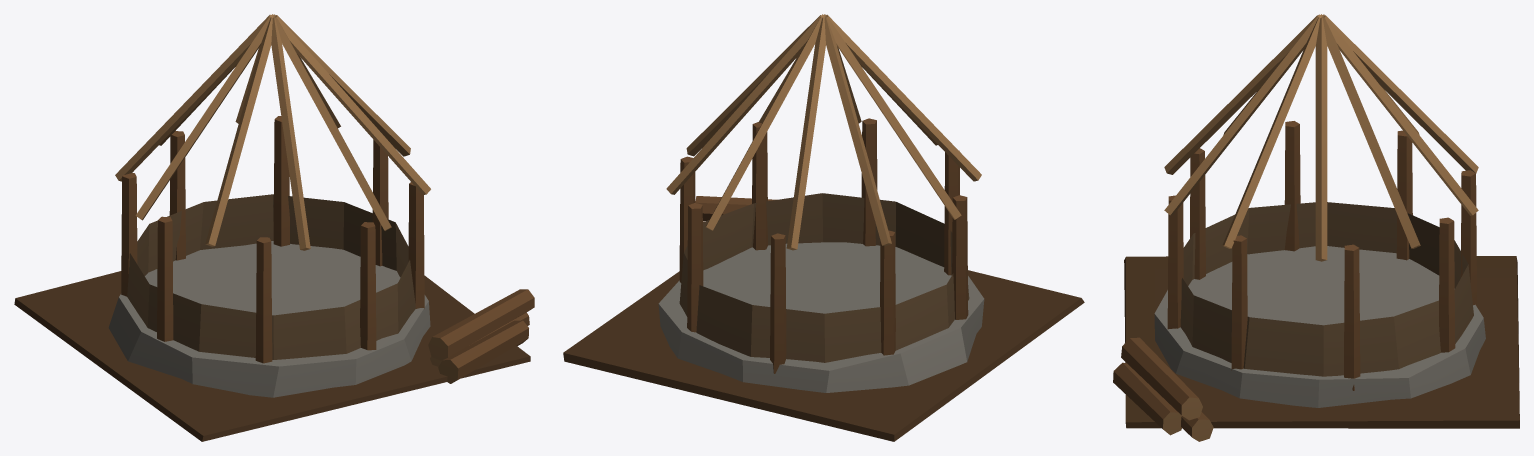
The model's file is house_1_s1.glb.
3 views of the same model, side by side, from view 1: azimuth 30°, elevation 25°; view 2: azimuth 150°, elevation 25°; view 3: azimuth 270°, elevation 25° (orthographic). The views are drawn at different scales.
Parts seen in each view (by area): view 1: house_1_s1; view 2: house_1_s1; view 3: house_1_s1.
Boxes of the visible parts, x1,y1,x2,y2 form: house_1_s1: [14, 14, 534, 441]; house_1_s1: [563, 14, 1084, 441]; house_1_s1: [1113, 14, 1519, 441].
Size of the model in its own units: 1.88 by 1.61 by 1.77.
